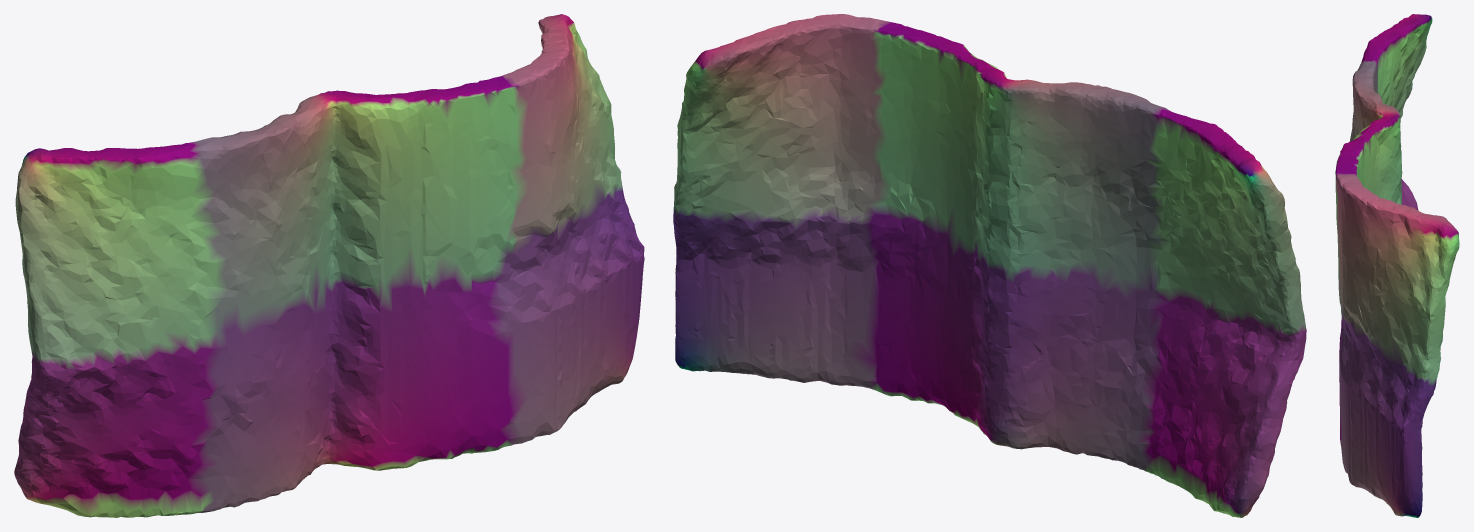
File: paper-12.off.obj
3 renders of one model, left to right at view 1: azimuth 30°, elevation 25°; view 2: azimuth 150°, elevation 25°; view 3: azimuth 270°, elevation 25°, orthographic. The views are drawn at different scales.
Bounding box in the file's own units: 1.58 × 0.9018 × 0.3451.
